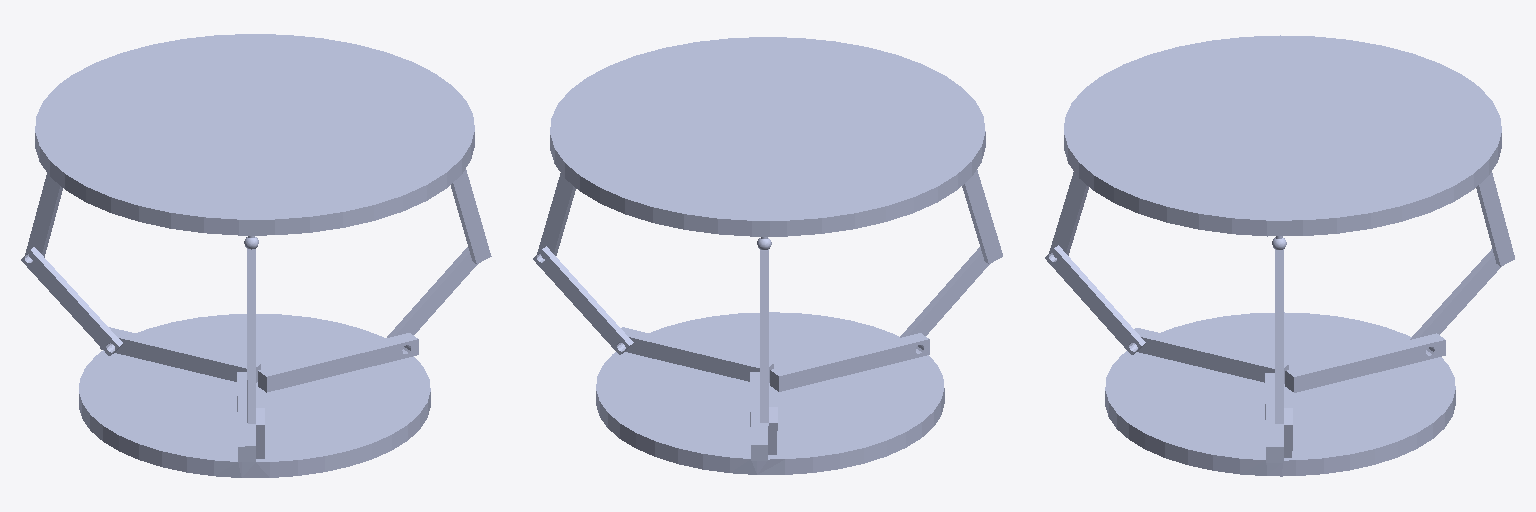
robot.urdf — 3rps:
<?xml version="1.0" encoding="utf-8"?>
<!-- This URDF was automatically created by SolidWorks to URDF Exporter! Originally created by [author] ([email redacted]) 
     Commit Version: 1.6.0-4-g7f85cfe  Build Version: 1.6.7995.38578
     For more information, please see http://wiki.ros.org/sw_urdf_exporter -->
<robot
  name="3rps">
  <link
    name="base_link">
    <inertial>
      <origin
        xyz="0.00147501950493725 0.00585026716726001 -0.0246920187151703"
        rpy="0 0 0" />
      <mass
        value="0.343366641532479" />
      <inertia
        ixx="0.000840538952459364"
        ixy="-2.53367030319271E-07"
        ixz="-4.50736665130116E-08"
        iyy="0.00166994924359932"
        iyz="3.66626613954449E-07"
        izz="0.000840483092628045" />
    </inertial>
    <visual>
      <origin
        xyz="0 0 0"
        rpy="0 0 0" />
      <geometry>
        <mesh
          filename="package://3rps/meshes/base_link.STL" />
      </geometry>
      <material
        name="">
        <color
          rgba="0.792156862745098 0.819607843137255 0.933333333333333 1" />
      </material>
    </visual>
    <collision>
      <origin
        xyz="0 0 0"
        rpy="0 0 0" />
      <geometry>
        <mesh
          filename="package://3rps/meshes/base_link.STL" />
      </geometry>
    </collision>
  </link>
  <link
    name="l1">
    <inertial>
      <origin
        xyz="0.0345 6.93889390390723E-18 -0.0299548821668228"
        rpy="0 0 0" />
      <mass
        value="0.0034857920578331" />
      <inertia
        ixx="3.79565695887464E-08"
        ixy="1.29867356170825E-22"
        ixz="-3.69749733811203E-22"
        iyy="1.45004556642459E-06"
        iyz="-2.64697796016969E-23"
        izz="1.47347800243903E-06" />
    </inertial>
    <visual>
      <origin
        xyz="0 0 0"
        rpy="0 0 0" />
      <geometry>
        <mesh
          filename="package://3rps/meshes/l1.STL" />
      </geometry>
      <material
        name="">
        <color
          rgba="0.792156862745098 0.819607843137255 0.933333333333333 1" />
      </material>
    </visual>
    <collision>
      <origin
        xyz="0 0 0"
        rpy="0 0 0" />
      <geometry>
        <mesh
          filename="package://3rps/meshes/l1.STL" />
      </geometry>
    </collision>
  </link>
  <joint
    name="l1"
    type="continuous">
    <origin
      xyz="-0.016725 -0.072844 0.015152"
      rpy="-1.5708 -0.69883 -2.0884" />
    <parent
      link="base_link" />
    <child
      link="l1" />
    <axis
      xyz="0 0 -1" />
  </joint>
  <link
    name="e1">
    <inertial>
      <origin
        xyz="0.0458398693820964 2.59863996027176E-06 -0.018796807276071"
        rpy="0 0 0" />
      <mass
        value="0.00487433629385641" />
      <inertia
        ixx="5.18303688110237E-08"
        ixy="-5.84693991059332E-10"
        ixz="-2.92346995529835E-10"
        iyy="3.91488075562568E-06"
        iyz="6.54844008870915E-13"
        izz="3.94612977335967E-06" />
    </inertial>
    <visual>
      <origin
        xyz="0 0 0"
        rpy="0 0 0" />
      <geometry>
        <mesh
          filename="package://3rps/meshes/e1.STL" />
      </geometry>
      <material
        name="">
        <color
          rgba="0.792156862745098 0.819607843137255 0.933333333333333 1" />
      </material>
    </visual>
    <collision>
      <origin
        xyz="0 0 0"
        rpy="0 0 0" />
      <geometry>
        <mesh
          filename="package://3rps/meshes/e1.STL" />
      </geometry>
    </collision>
  </link>
  <joint
    name="e1"
    type="continuous">
    <origin
      xyz="0.069 0 -0.016157"
      rpy="0 0 -1.159" />
    <parent
      link="l1" />
    <child
      link="e1" />
    <axis
      xyz="0 0 -1" />
  </joint>
  <link
    name="b1">
    <inertial>
      <origin
        xyz="-0.0144458954802205 -2.77555756156289E-17 0"
        rpy="0 0 0" />
      <mass
        value="0.00047243106832359" />
      <inertia
        ixx="2.12666790996715E-09"
        ixy="-4.29099942761883E-24"
        ixz="7.26367975398127E-24"
        iyy="2.27607764209083E-08"
        iyz="1.65436122510606E-24"
        izz="2.27607764209083E-08" />
    </inertial>
    <visual>
      <origin
        xyz="0 0 0"
        rpy="0 0 0" />
      <geometry>
        <mesh
          filename="package://3rps/meshes/b1.STL" />
      </geometry>
      <material
        name="">
        <color
          rgba="0.792156862745098 0.819607843137255 0.933333333333333 1" />
      </material>
    </visual>
    <collision>
      <origin
        xyz="0 0 0"
        rpy="0 0 0" />
      <geometry>
        <mesh
          filename="package://3rps/meshes/b1.STL" />
      </geometry>
    </collision>
  </link>
  <joint
    name="b1"
    type="fixed">
    <origin
      xyz="0.080885 -0.0001008 -0.018849"
      rpy="2.267 0 -3.1416" />
    <parent
      link="e1" />
    <child
      link="b1" />
    <axis
      xyz="0 0 0" />
  </joint>
  <link
    name="s1">
    <inertial>
      <origin
        xyz="0.00682295115101317 -0.00315759519083211 -0.00492142509620176"
        rpy="0 0 0" />
      <mass
        value="0.000125413134072923" />
      <inertia
        ixx="4.82944924242953E-10"
        ixy="7.91514190382975E-26"
        ixz="3.05285199304351E-25"
        iyy="8.16445338204102E-10"
        iyz="0"
        izz="8.16445338204102E-10" />
    </inertial>
    <visual>
      <origin
        xyz="0 0 0"
        rpy="0 0 0" />
      <geometry>
        <mesh
          filename="package://3rps/meshes/s1.STL" />
      </geometry>
      <material
        name="">
        <color
          rgba="0.792156862745098 0.819607843137255 0.933333333333333 1" />
      </material>
    </visual>
    <collision>
      <origin
        xyz="0 0 0"
        rpy="0 0 0" />
      <geometry>
        <mesh
          filename="package://3rps/meshes/s1.STL" />
      </geometry>
    </collision>
  </link>
  <joint
    name="s1"
    type="fixed">
    <origin
      xyz="-0.018141 0.0053451 0.0018842"
      rpy="1.8048 -0.21901 2.9545" />
    <parent
      link="b1" />
    <child
      link="s1" />
    <axis
      xyz="0 0 0" />
  </joint>
  <link
    name="platform">
    <inertial>
      <origin
        xyz="0.246561359482376 0.137644239301135 0.151371743234073"
        rpy="0 0 0" />
      <mass
        value="0.49068535656419" />
      <inertia
        ixx="0.00192021855152557"
        ixy="1.44190225086158E-11"
        ixz="4.57007478735227E-15"
        iyy="0.00383225901450391"
        iyz="3.73520044576916E-13"
        izz="0.00192021855134928" />
    </inertial>
    <visual>
      <origin
        xyz="0 0 0"
        rpy="0 0 0" />
      <geometry>
        <mesh
          filename="package://3rps/meshes/platform.STL" />
      </geometry>
      <material
        name="">
        <color
          rgba="0.792156862745098 0.819607843137255 0.933333333333333 1" />
      </material>
    </visual>
    <collision>
      <origin
        xyz="0 0 0"
        rpy="0 0 0" />
      <geometry>
        <mesh
          filename="package://3rps/meshes/platform.STL" />
      </geometry>
    </collision>
  </link>
  <joint
    name="platform"
    type="fixed">
    <origin
      xyz="-0.12564 0.05024 0.18269"
      rpy="0 1.5334 -1.5708" />
    <parent
      link="s1" />
    <child
      link="platform" />
    <axis
      xyz="0 0 0" />
  </joint>
  <link
    name="s2">
    <inertial>
      <origin
        xyz="0.0068229511510132 -2.77555756156289E-17 4.16333634234434E-17"
        rpy="0 0 0" />
      <mass
        value="0.000125413134072923" />
      <inertia
        ixx="4.82944924242953E-10"
        ixy="1.8807618955357E-25"
        ixz="2.92971523964052E-25"
        iyy="8.16445338204101E-10"
        iyz="-7.75481824268463E-26"
        izz="8.16445338204101E-10" />
    </inertial>
    <visual>
      <origin
        xyz="0 0 0"
        rpy="0 0 0" />
      <geometry>
        <mesh
          filename="package://3rps/meshes/s2.STL" />
      </geometry>
      <material
        name="">
        <color
          rgba="0.792156862745098 0.819607843137255 0.933333333333333 1" />
      </material>
    </visual>
    <collision>
      <origin
        xyz="0 0 0"
        rpy="0 0 0" />
      <geometry>
        <mesh
          filename="package://3rps/meshes/s2.STL" />
      </geometry>
    </collision>
  </link>
  <joint
    name="s2"
    type="fixed">
    <origin
      xyz="0.18411 0.12564 0.25329"
      rpy="-1.5334 0 1.5708" />
    <parent
      link="platform" />
    <child
      link="s2" />
    <axis
      xyz="0 0 0" />
  </joint>
  <link
    name="s3">
    <inertial>
      <origin
        xyz="0.00682295115101317 2.77555756156289E-17 5.55111512312578E-17"
        rpy="0 0 0" />
      <mass
        value="0.000125413134072923" />
      <inertia
        ixx="4.82944924242953E-10"
        ixy="-4.84972692233821E-26"
        ixz="-9.77022299952032E-26"
        iyy="8.164453382041E-10"
        iyz="-2.58493941422821E-26"
        izz="8.164453382041E-10" />
    </inertial>
    <visual>
      <origin
        xyz="0 0 0"
        rpy="0 0 0" />
      <geometry>
        <mesh
          filename="package://3rps/meshes/s3.STL" />
      </geometry>
      <material
        name="">
        <color
          rgba="0.792156862745098 0.819607843137255 0.933333333333333 1" />
      </material>
    </visual>
    <collision>
      <origin
        xyz="0 0 0"
        rpy="0 0 0" />
      <geometry>
        <mesh
          filename="package://3rps/meshes/s3.STL" />
      </geometry>
    </collision>
  </link>
  <joint
    name="s3"
    type="fixed">
    <origin
      xyz="0.36601 0.12564 0.15447"
      rpy="-1.5334 0 1.5708" />
    <parent
      link="platform" />
    <child
      link="s3" />
    <axis
      xyz="0 0 0" />
  </joint>
  <link
    name="l2">
    <inertial>
      <origin
        xyz="0.0345 -6.93889390390723E-18 -0.00288587942099125"
        rpy="0 0 0" />
      <mass
        value="0.0034857920578331" />
      <inertia
        ixx="3.7956569588746E-08"
        ixy="1.73527689696511E-22"
        ixz="2.09897080435331E-22"
        iyy="1.45004556642459E-06"
        iyz="-4.96308367531817E-24"
        izz="1.47347800243904E-06" />
    </inertial>
    <visual>
      <origin
        xyz="0 0 0"
        rpy="0 0 0" />
      <geometry>
        <mesh
          filename="package://3rps/meshes/l2.STL" />
      </geometry>
      <material
        name="">
        <color
          rgba="0.792156862745098 0.819607843137255 0.933333333333333 1" />
      </material>
    </visual>
    <collision>
      <origin
        xyz="0 0 0"
        rpy="0 0 0" />
      <geometry>
        <mesh
          filename="package://3rps/meshes/l2.STL" />
      </geometry>
    </collision>
  </link>
  <joint
    name="l2"
    type="continuous">
    <origin
      xyz="0.096209 0.025933 0.015152"
      rpy="1.5708 -0.69315 0.0060218" />
    <parent
      link="base_link" />
    <child
      link="l2" />
    <axis
      xyz="0 0 -1" />
  </joint>
  <link
    name="e2">
    <inertial>
      <origin
        xyz="0.0458398693820964 2.59863996027176E-06 -0.00211282125902864"
        rpy="0 0 0" />
      <mass
        value="0.00487433629385641" />
      <inertia
        ixx="5.18303688110235E-08"
        ixy="-5.8469399105818E-10"
        ixz="-2.92346995529201E-10"
        iyy="3.91488075562568E-06"
        iyz="6.54844009057857E-13"
        izz="3.94612977335967E-06" />
    </inertial>
    <visual>
      <origin
        xyz="0 0 0"
        rpy="0 0 0" />
      <geometry>
        <mesh
          filename="package://3rps/meshes/e2.STL" />
      </geometry>
      <material
        name="">
        <color
          rgba="0.792156862745098 0.819607843137255 0.933333333333333 1" />
      </material>
    </visual>
    <collision>
      <origin
        xyz="0 0 0"
        rpy="0 0 0" />
      <geometry>
        <mesh
          filename="package://3rps/meshes/e2.STL" />
      </geometry>
    </collision>
  </link>
  <joint
    name="e2"
    type="continuous">
    <origin
      xyz="0.069 0 0"
      rpy="3.1416 0 1.154" />
    <parent
      link="l2" />
    <child
      link="e2" />
    <axis
      xyz="0 0 1" />
  </joint>
  <link
    name="b2">
    <inertial>
      <origin
        xyz="-0.0130825812680573 2.08166817117217E-17 5.55111512312578E-17"
        rpy="0 0 0" />
      <mass
        value="0.000472431068323591" />
      <inertia
        ixx="2.12666790996716E-09"
        ixy="1.18549764401124E-23"
        ixz="-8.01866381648847E-24"
        iyy="2.27607764209084E-08"
        iyz="-4.13590306276514E-25"
        izz="2.27607764209084E-08" />
    </inertial>
    <visual>
      <origin
        xyz="0 0 0"
        rpy="0 0 0" />
      <geometry>
        <mesh
          filename="package://3rps/meshes/b2.STL" />
      </geometry>
      <material
        name="">
        <color
          rgba="0.792156862745098 0.819607843137255 0.933333333333333 1" />
      </material>
    </visual>
    <collision>
      <origin
        xyz="0 0 0"
        rpy="0 0 0" />
      <geometry>
        <mesh
          filename="package://3rps/meshes/b2.STL" />
      </geometry>
    </collision>
  </link>
  <joint
    name="b2"
    type="fixed">
    <origin
      xyz="0.082248 -0.0001008 -0.0021645"
      rpy="1.3638 0 -3.1416" />
    <parent
      link="e2" />
    <child
      link="b2" />
    <axis
      xyz="0 0 0" />
  </joint>
  <link
    name="l3">
    <inertial>
      <origin
        xyz="0.0345 0 0.0012238350004849"
        rpy="0 0 0" />
      <mass
        value="0.0034857920578331" />
      <inertia
        ixx="3.79565695887467E-08"
        ixy="-4.96308367531817E-23"
        ixz="-7.0227634005752E-22"
        iyy="1.45004556642459E-06"
        iyz="1.32348898008484E-22"
        izz="1.47347800243903E-06" />
    </inertial>
    <visual>
      <origin
        xyz="0 0 0"
        rpy="0 0 0" />
      <geometry>
        <mesh
          filename="package://3rps/meshes/l3.STL" />
      </geometry>
      <material
        name="">
        <color
          rgba="0.792156862745098 0.819607843137255 0.933333333333333 1" />
      </material>
    </visual>
    <collision>
      <origin
        xyz="0 0 0"
        rpy="0 0 0" />
      <geometry>
        <mesh
          filename="package://3rps/meshes/l3.STL" />
      </geometry>
    </collision>
  </link>
  <joint
    name="l3"
    type="continuous">
    <origin
      xyz="-0.046953 0.10309 0.015152"
      rpy="1.5708 -0.68303 2.1004" />
    <parent
      link="base_link" />
    <child
      link="l3" />
    <axis
      xyz="0 0 -1" />
  </joint>
  <link
    name="e3">
    <inertial>
      <origin
        xyz="0.0458398693820964 2.59863996024401E-06 0.001225134320465"
        rpy="0 0 0" />
      <mass
        value="0.00487433629385641" />
      <inertia
        ixx="5.18303688110234E-08"
        ixy="-5.84693991058521E-10"
        ixz="-2.92346995527896E-10"
        iyy="3.91488075562568E-06"
        iyz="6.54844009188552E-13"
        izz="3.94612977335966E-06" />
    </inertial>
    <visual>
      <origin
        xyz="0 0 0"
        rpy="0 0 0" />
      <geometry>
        <mesh
          filename="package://3rps/meshes/e3.STL" />
      </geometry>
      <material
        name="">
        <color
          rgba="0.792156862745098 0.819607843137255 0.933333333333333 1" />
      </material>
    </visual>
    <collision>
      <origin
        xyz="0 0 0"
        rpy="0 0 0" />
      <geometry>
        <mesh
          filename="package://3rps/meshes/e3.STL" />
      </geometry>
    </collision>
  </link>
  <joint
    name="e3"
    type="continuous">
    <origin
      xyz="0.069 0 0.005"
      rpy="0 0 1.1458" />
    <parent
      link="l3" />
    <child
      link="e3" />
    <axis
      xyz="0 0 -1" />
  </joint>
  <link
    name="b3">
    <inertial>
      <origin
        xyz="-0.0180851488386009 -2.77555756156289E-17 2.77555756156289E-17"
        rpy="0 0 0" />
      <mass
        value="0.00047243106832359" />
      <inertia
        ixx="2.12666790996715E-09"
        ixy="2.86928274979331E-23"
        ixz="-9.12483613222559E-24"
        iyy="2.27607764209083E-08"
        iyz="-8.27180612553028E-25"
        izz="2.27607764209083E-08" />
    </inertial>
    <visual>
      <origin
        xyz="0 0 0"
        rpy="0 0 0" />
      <geometry>
        <mesh
          filename="package://3rps/meshes/b3.STL" />
      </geometry>
      <material
        name="">
        <color
          rgba="0.792156862745098 0.819607843137255 0.933333333333333 1" />
      </material>
    </visual>
    <collision>
      <origin
        xyz="0 0 0"
        rpy="0 0 0" />
      <geometry>
        <mesh
          filename="package://3rps/meshes/b3.STL" />
      </geometry>
    </collision>
  </link>
  <joint
    name="b3"
    type="fixed">
    <origin
      xyz="0.077245 -0.0001008 0.0011734"
      rpy="1.0995 0 -3.1416" />
    <parent
      link="e3" />
    <child
      link="b3" />
    <axis
      xyz="0 0 0" />
  </joint>
</robot>

--- What the picture shows (computed from the rendered views, not written in the file) ---
Views: 3 orthographic renders of the robot side by side, from view 1: azimuth 30°, elevation 25°; view 2: azimuth 150°, elevation 25°; view 3: azimuth 270°, elevation 25°.
Model 3rps with 14 links and 13 joints (6 continuous, 7 fixed), rooted at base_link, posed every joint at zero.
Links seen in each view (by area): view 1: platform, base_link, l3, l2, e2, e1, e3; view 2: platform, base_link, l2, l1, e1, e3, e2; view 3: platform, base_link, l1, l3, e3, e2, e1.
Link boxes in pixels (x1,y1,x2,y2): platform: (35, 34, 474, 235); base_link: (79, 314, 430, 477); l3: (21, 247, 122, 355); l2: (387, 247, 477, 337); e2: (451, 169, 491, 263); e1: (247, 249, 255, 423); e3: (25, 173, 62, 259); platform: (550, 37, 985, 236); base_link: (596, 312, 944, 474); l2: (533, 246, 633, 354); l1: (900, 247, 989, 337); e1: (962, 170, 1002, 263); e3: (760, 249, 768, 422); e2: (537, 173, 575, 258); platform: (1064, 35, 1501, 236); base_link: (1105, 312, 1455, 476); l1: (1045, 245, 1145, 354); l3: (1410, 249, 1500, 339); e3: (1476, 172, 1514, 266); e2: (1275, 249, 1283, 423); e1: (1049, 172, 1088, 257).
Size in the robot's own frame: 0.2776 by 0.2685 by 0.1729 metres.
14 mesh visuals loaded from 14 distinct referenced files (14 binary STL).